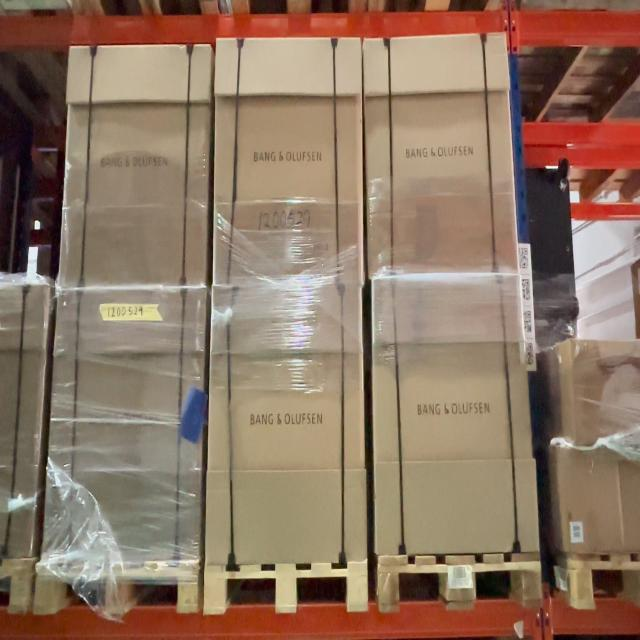box: (206, 279, 368, 565), (374, 277, 540, 553), (42, 288, 208, 560), (364, 31, 520, 278), (58, 46, 210, 289), (215, 38, 359, 284)
